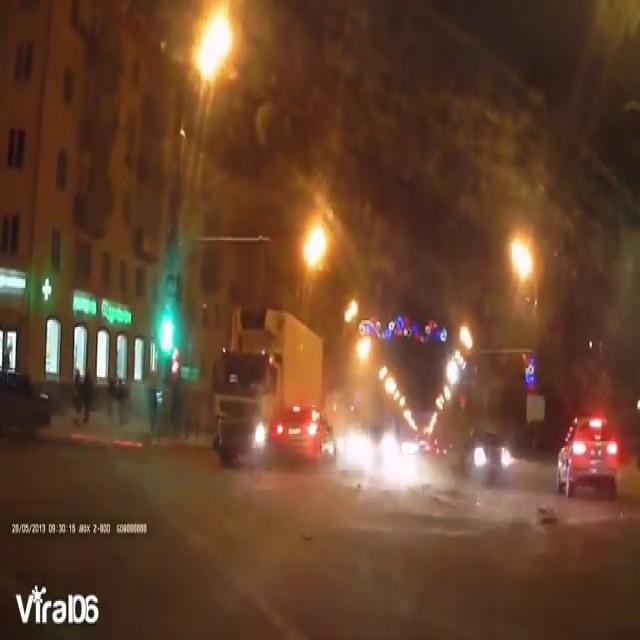moderate: (206, 293, 334, 475)
